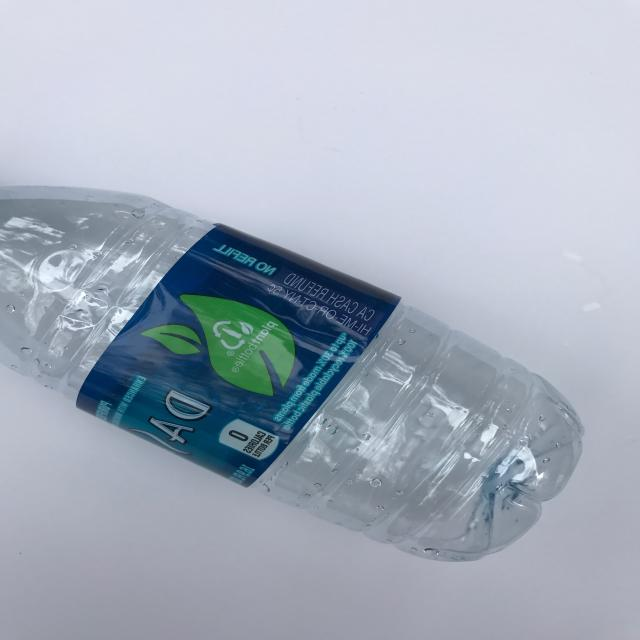plastic: (0, 184, 585, 563)
